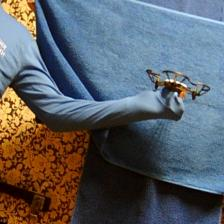drone: (146, 66, 212, 103)
